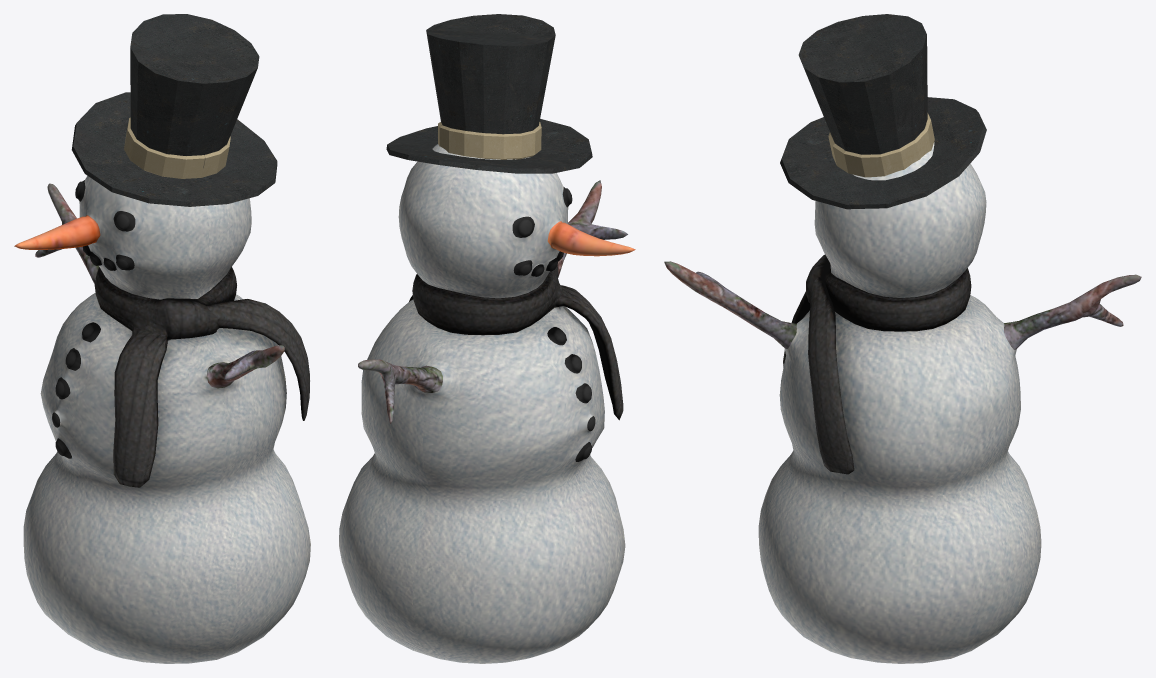
3 views of the same model, side by side, from view 1: azimuth 30°, elevation 25°; view 2: azimuth 150°, elevation 25°; view 3: azimuth 270°, elevation 25° (orthographic).
Parts seen in each view (by area): view 1: snowman:snowmanmesh, snowmanhat:snowmanhatmesh; view 2: snowman:snowmanmesh, snowmanhat:snowmanhatmesh; view 3: snowman:snowmanmesh, snowmanhat:snowmanhatmesh.
Part boxes in pixels (x1=…): snowman:snowmanmesh: x1=14, y1=176, x2=310, y2=663; snowmanhat:snowmanhatmesh: x1=71, y1=14, x2=277, y2=206; snowman:snowmanmesh: x1=339, y1=144, x2=635, y2=663; snowmanhat:snowmanhatmesh: x1=386, y1=14, x2=592, y2=173; snowman:snowmanmesh: x1=664, y1=142, x2=1141, y2=663; snowmanhat:snowmanhatmesh: x1=780, y1=14, x2=986, y2=209.
Bounding box in the file's own units: 2.19 × 4.53 × 3.25.
Materials: 2 (2 with a texture image).
